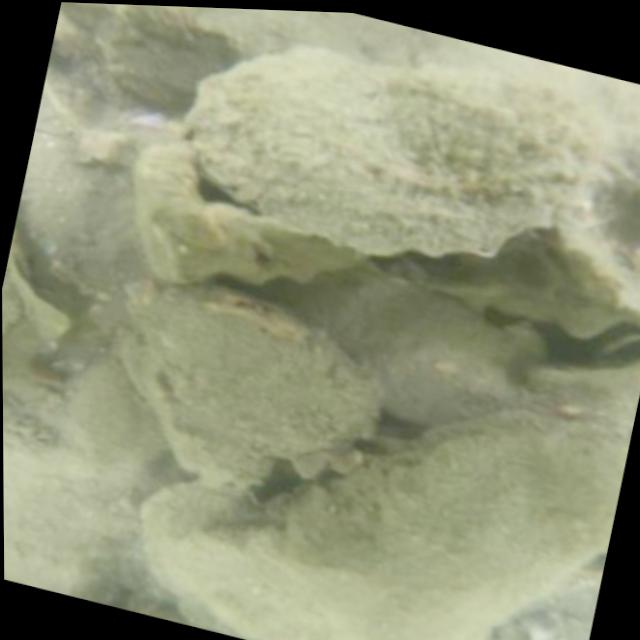Oyster-Closed: (229, 409, 631, 640)
Oyster-Indeterminate: (184, 45, 610, 255), (139, 288, 382, 479), (302, 274, 520, 425)
